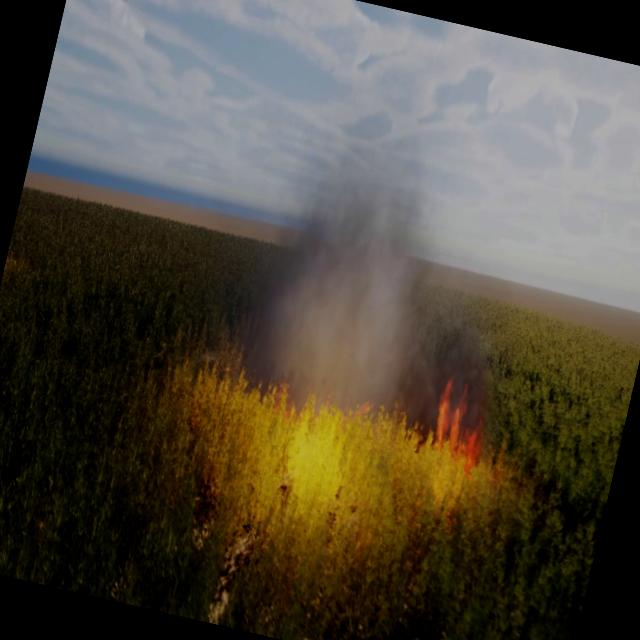fire: (147, 360, 503, 568), (422, 374, 498, 465)
smoke: (204, 84, 550, 441)
